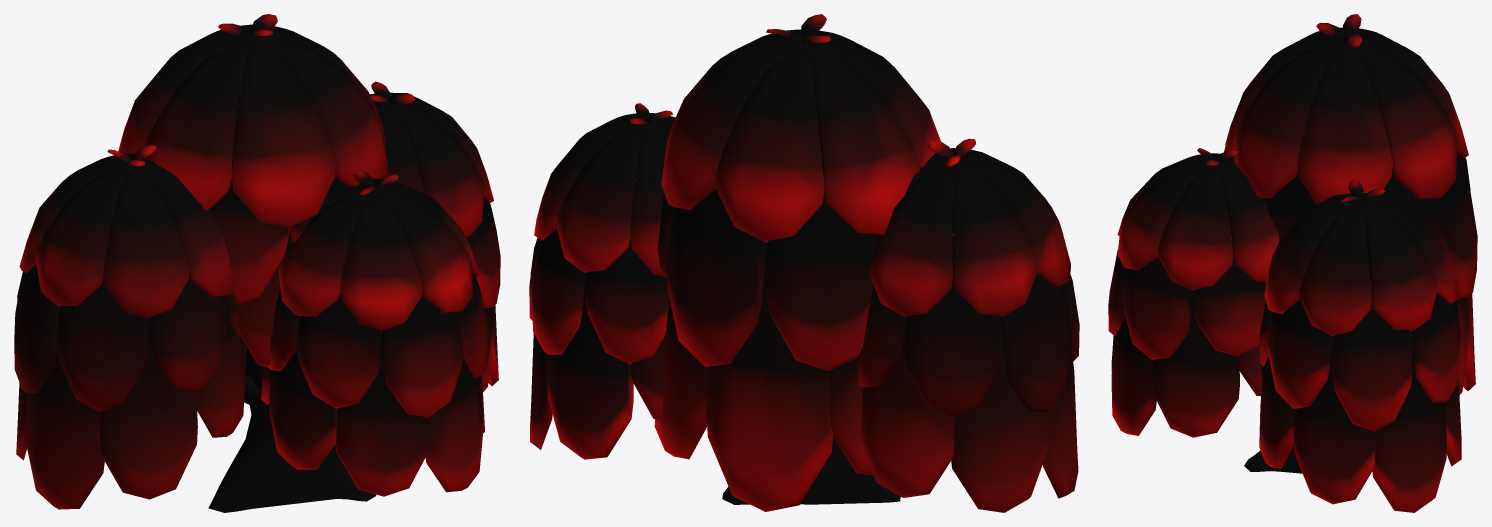
Rendered from SM_WeepingWillow_01_LOD1.fbx.
3 views of the same model, side by side, from view 1: azimuth 30°, elevation 25°; view 2: azimuth 150°, elevation 25°; view 3: azimuth 270°, elevation 25° (orthographic). The views are drawn at different scales.
Parts seen in each view (by area): view 1: SM_WeepingWillow_01_LOD1; view 2: SM_WeepingWillow_01_LOD1; view 3: SM_WeepingWillow_01_LOD1.
Part boxes in pixels (x1,y1,x2,y2): SM_WeepingWillow_01_LOD1: (14, 14, 500, 512); SM_WeepingWillow_01_LOD1: (529, 14, 1079, 512); SM_WeepingWillow_01_LOD1: (1108, 14, 1477, 512).
Bounding box in the file's own units: 1500 × 1101 × 1366.
